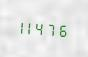four: (38, 19, 47, 37)
one: (28, 18, 37, 36), (18, 18, 27, 35)
seven: (48, 20, 57, 37)
six: (58, 21, 67, 38)
